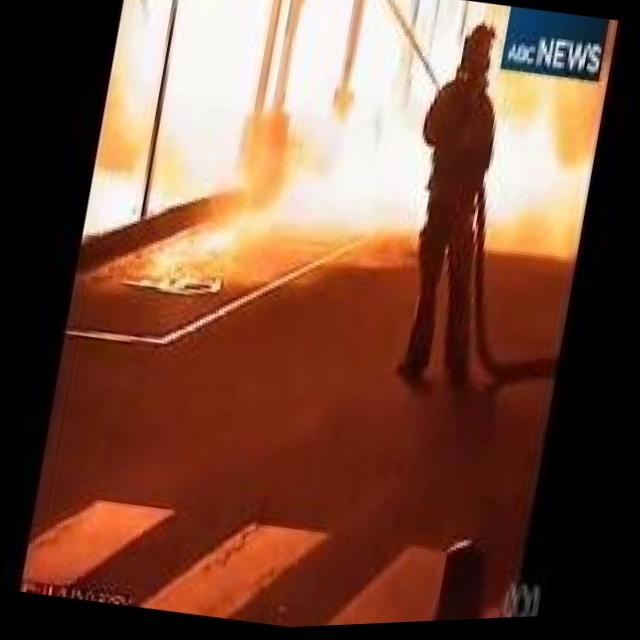fire: (85, 0, 462, 273), (469, 89, 606, 285)
